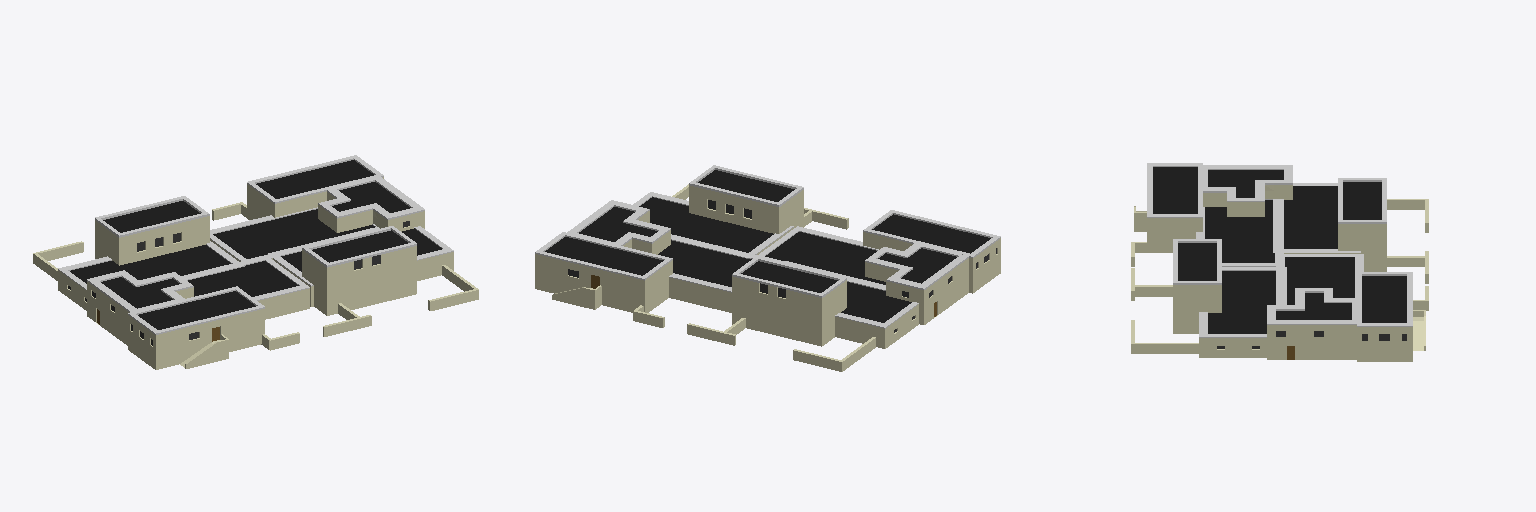
File: house4.obj
The picture shows the model from 3 angles: view 1: azimuth 30°, elevation 25°; view 2: azimuth 150°, elevation 25°; view 3: azimuth 270°, elevation 25°; orthographic projection.
Parts seen in each view (by area): view 1: unnamed_object1; view 2: unnamed_object1; view 3: unnamed_object1.
Boxes of the visible parts, x1=… form: unnamed_object1: x1=33, y1=155, x2=478, y2=369; unnamed_object1: x1=535, y1=165, x2=1000, y2=371; unnamed_object1: x1=1131, y1=163, x2=1428, y2=361.
Bounding box in the file's own units: 33.05 × 4.8 × 25.58.